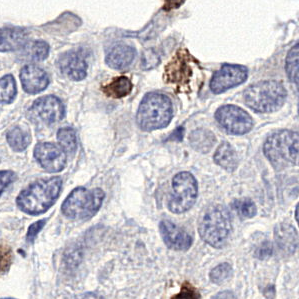Lymphocyte: (101, 75, 137, 100)
